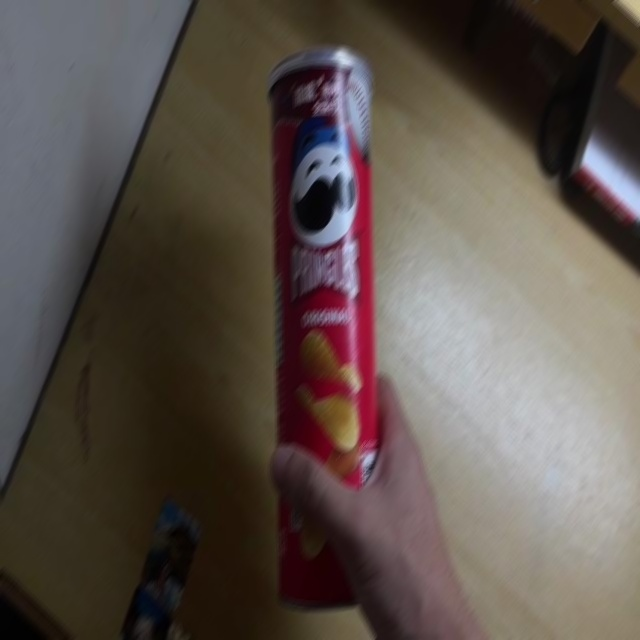Pringles: (267, 46, 379, 609)
